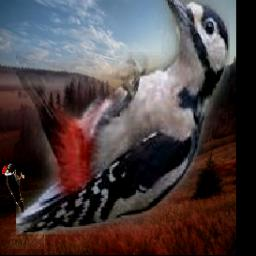Woodpecker: (16, 0, 230, 235), (2, 163, 24, 214)
